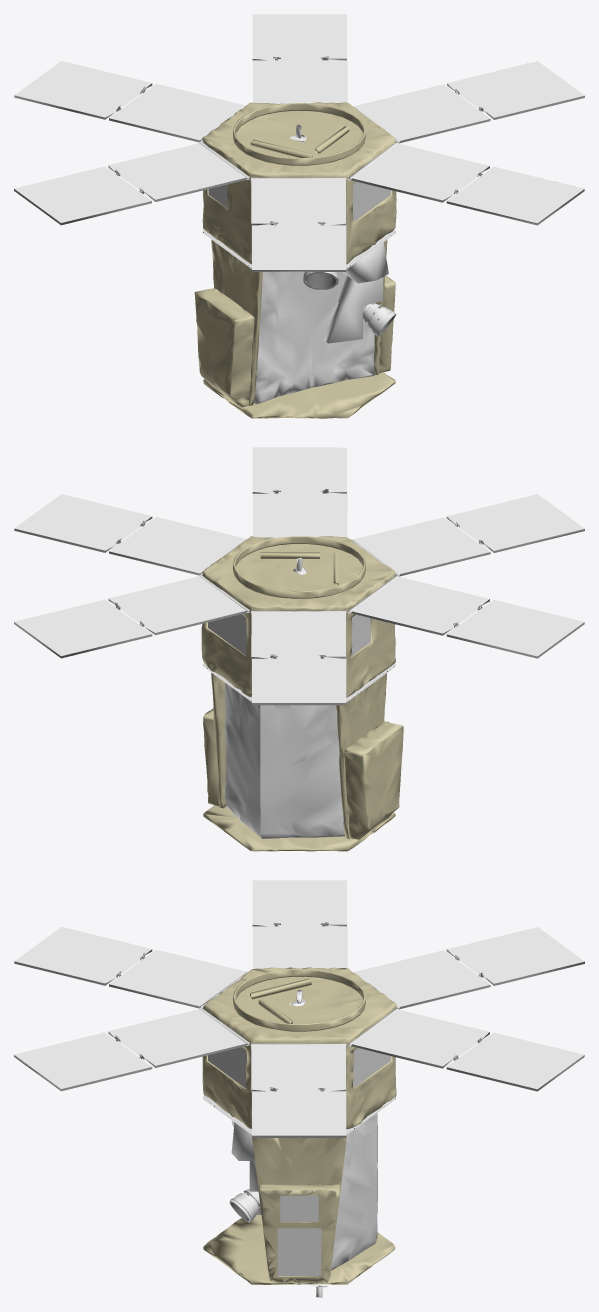
The model's file is sorce.glb.
3 views of the same model, one above another, from view 1: azimuth 30°, elevation 25°; view 2: azimuth 150°, elevation 25°; view 3: azimuth 270°, elevation 25° (orthographic).
Parts seen in each view (by area): view 1: SORCE_vFINAL [Layer11], SORCE_vFINAL [Layer1], SORCE_vFINAL [Layer10], SORCE_vFINAL [Layer15], SORCE_vFINAL [Layer12]; view 2: SORCE_vFINAL [Layer11], SORCE_vFINAL [Layer1], SORCE_vFINAL [Layer10], SORCE_vFINAL [Layer15], SORCE_vFINAL [Layer12]; view 3: SORCE_vFINAL [Layer11], SORCE_vFINAL [Layer1], SORCE_vFINAL [Layer10], SORCE_vFINAL [Layer12], SORCE_vFINAL [Layer15].
Boxes of the visible parts, x1,y1,x2,y2 form: SORCE_vFINAL [Layer11]: (14,14,584,269); SORCE_vFINAL [Layer1]: (194,102,396,418); SORCE_vFINAL [Layer10]: (199,122,399,404); SORCE_vFINAL [Layer15]: (14,56,584,271); SORCE_vFINAL [Layer12]: (208,182,390,222); SORCE_vFINAL [Layer11]: (14,447,584,702); SORCE_vFINAL [Layer1]: (201,536,403,851); SORCE_vFINAL [Layer10]: (199,538,399,838); SORCE_vFINAL [Layer15]: (14,489,584,705); SORCE_vFINAL [Layer12]: (208,614,370,655); SORCE_vFINAL [Layer11]: (14,880,584,1135); SORCE_vFINAL [Layer1]: (202,967,396,1284); SORCE_vFINAL [Layer10]: (199,971,399,1297); SORCE_vFINAL [Layer12]: (208,1047,390,1275); SORCE_vFINAL [Layer15]: (14,922,584,1137).
Bounding box in the file's own units: 1 × 0.4968 × 0.9446.
